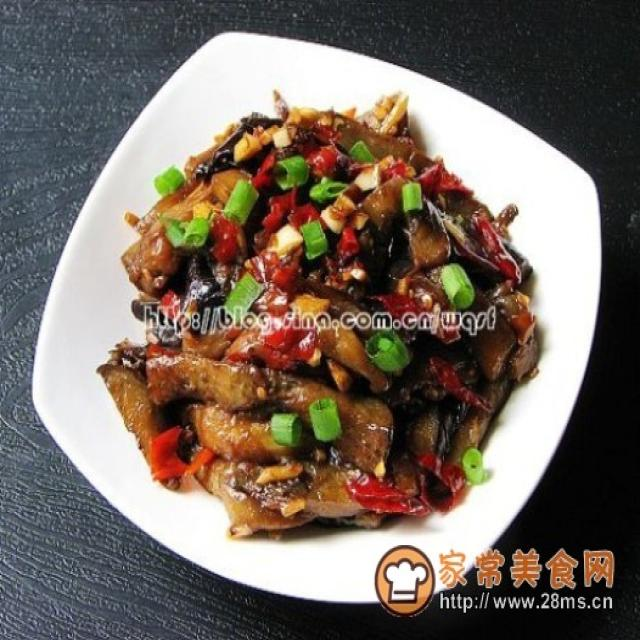鸡蛋料理: (95, 54, 563, 566)
